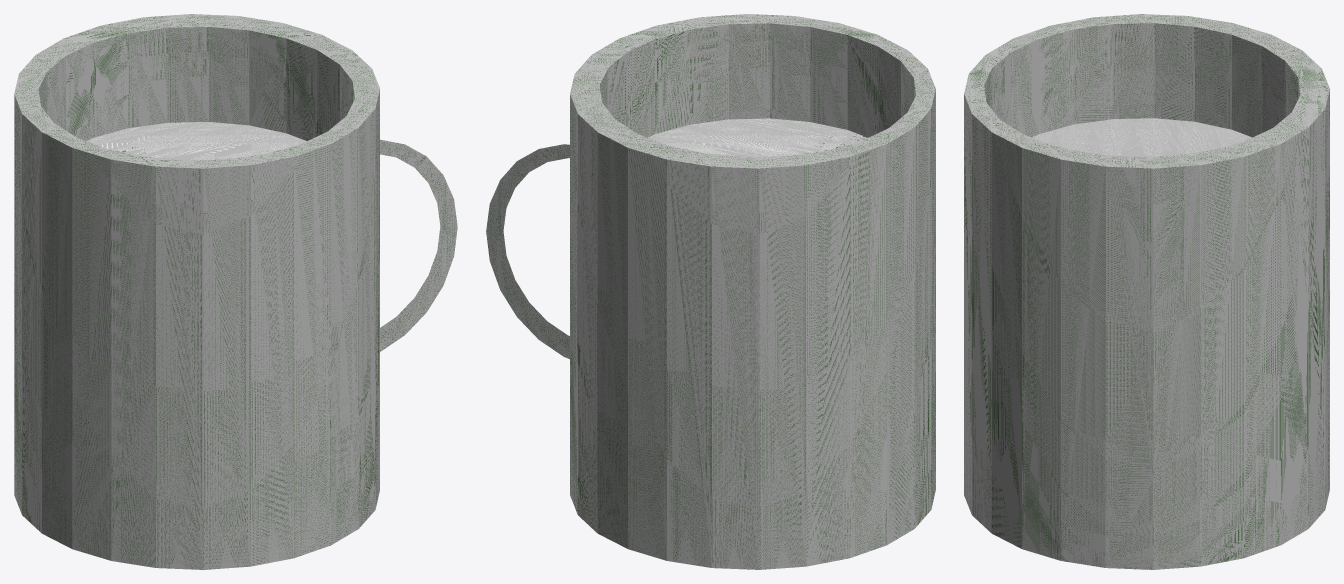
3 views of the same model, side by side, from view 1: azimuth 30°, elevation 25°; view 2: azimuth 150°, elevation 25°; view 3: azimuth 270°, elevation 25° (orthographic).
Parts seen in each view (by area): view 1: mesh1_mesh1-geometry; view 2: mesh1_mesh1-geometry; view 3: mesh1_mesh1-geometry.
Part boxes in pixels (x1,y1,x2,y2): mesh1_mesh1-geometry: [14, 14, 457, 569]; mesh1_mesh1-geometry: [486, 14, 935, 569]; mesh1_mesh1-geometry: [964, 14, 1329, 569].
Size of the model in its own units: 0.647 by 0.5879 by 0.4856.
